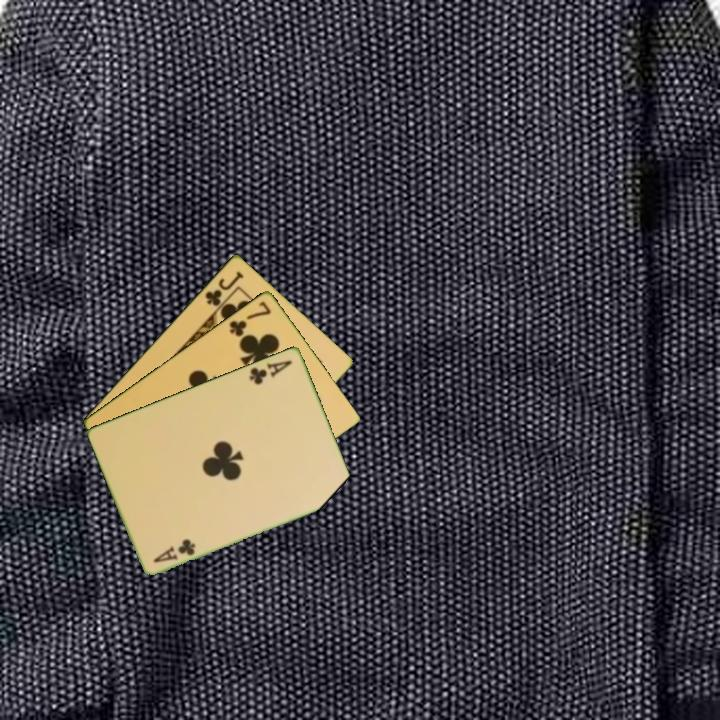7c: (226, 297, 274, 339)
Ac: (245, 356, 295, 387), (150, 534, 199, 565)
Jc: (201, 267, 247, 309)
